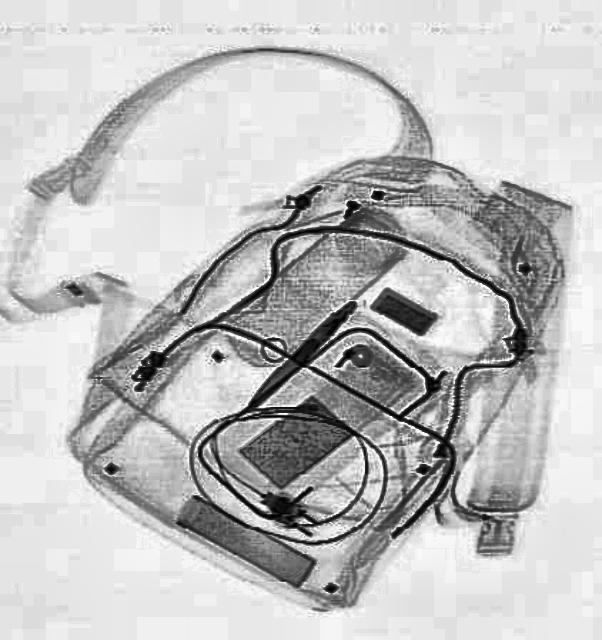Knife: (242, 295, 358, 413)
